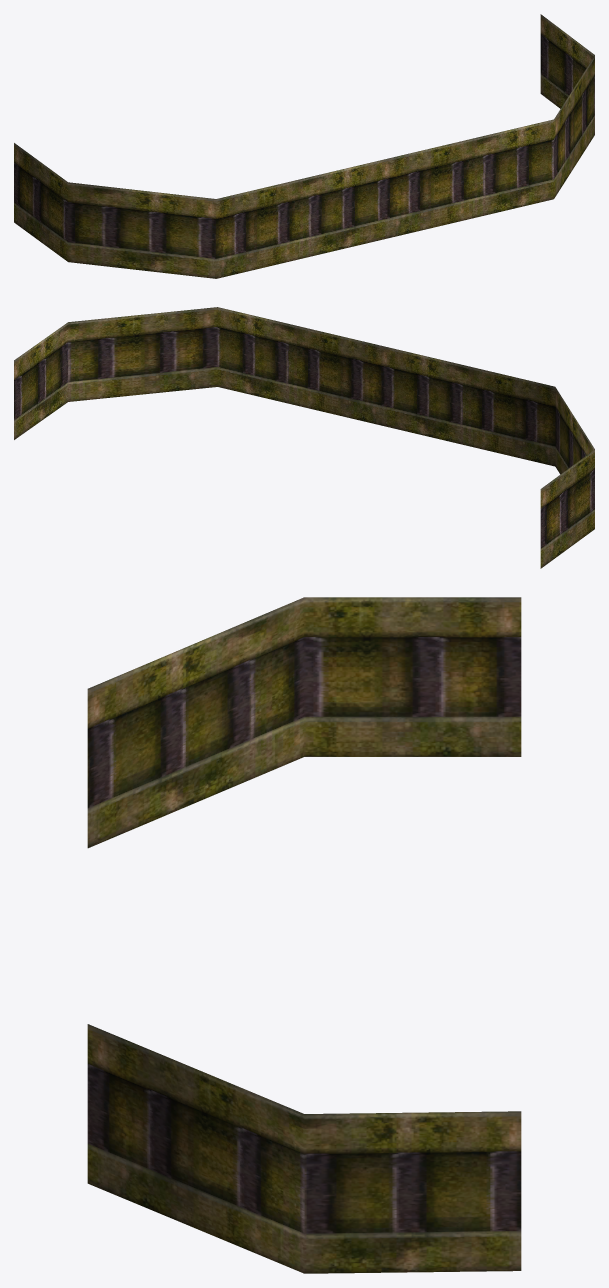
Rendered from OVERHILL_A_01_LINE408.fbx.
3 views of the same model, one above another, from view 1: azimuth 30°, elevation 25°; view 2: azimuth 150°, elevation 25°; view 3: azimuth 270°, elevation 25° (orthographic). The views are drawn at different scales.
Parts seen in each view (by area): view 1: OVERHILL_A_01_LINE408; view 2: OVERHILL_A_01_LINE408; view 3: OVERHILL_A_01_LINE408.
Part boxes in pixels (left/top/right/bottom): OVERHILL_A_01_LINE408: left=14, top=14, right=594, bottom=278; OVERHILL_A_01_LINE408: left=14, top=307, right=594, bottom=568; OVERHILL_A_01_LINE408: left=87, top=597, right=521, bottom=1273.
Bounding box in the file's own units: 56088 × 8405 × 20000.
1 material, 1 textured.
